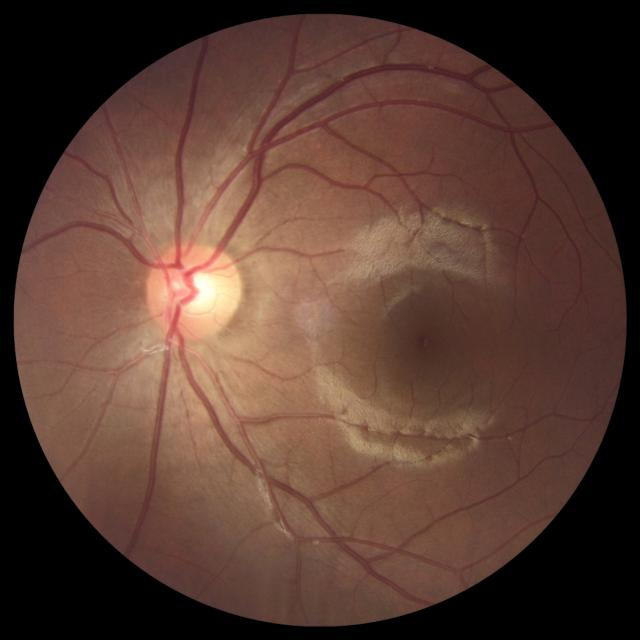OC: (173, 270, 221, 310)
OD: (142, 240, 243, 342)
